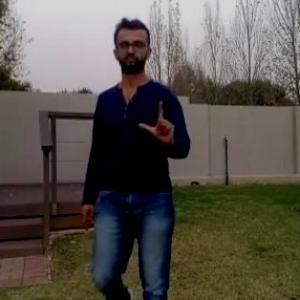land_hand: (136, 95, 180, 147)
